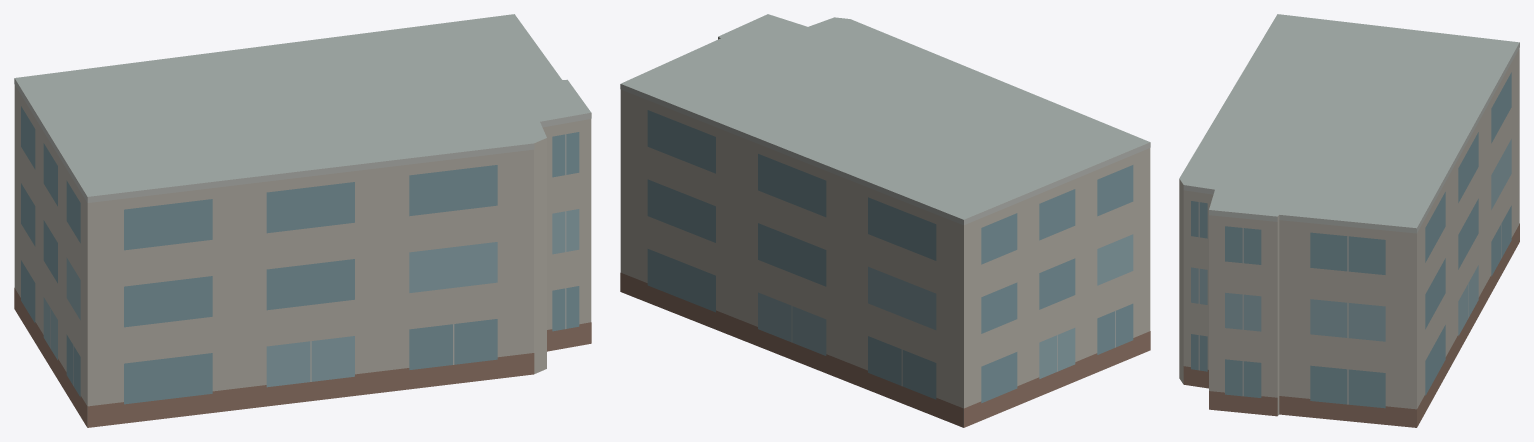
Rendered from survey-upis-32586421.glb.
3 views of the same model, side by side, from view 1: azimuth 30°, elevation 25°; view 2: azimuth 150°, elevation 25°; view 3: azimuth 270°, elevation 25° (orthographic). The views are drawn at different scales.
Visible parts, largest first — view 1: survey-upis-32586421.tmp; view 2: survey-upis-32586421.tmp; view 3: survey-upis-32586421.tmp.
Part boxes in pixels (x1=…): survey-upis-32586421.tmp: x1=14, y1=14, x2=591, y2=427; survey-upis-32586421.tmp: x1=620, y1=14, x2=1150, y2=427; survey-upis-32586421.tmp: x1=1179, y1=14, x2=1519, y2=427.
Bounding box in the file's own units: 21.06 × 9.15 × 14.15.
